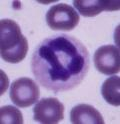N: (29, 34, 89, 92)
